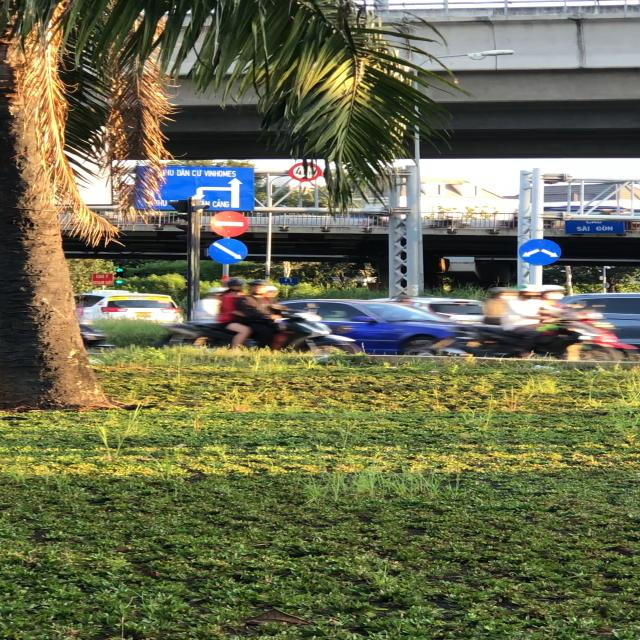Bien bao cam di nguoc chieu: (205, 208, 252, 238)
Bien bao han che chieu cao: (286, 161, 326, 182)
Bien bao huong phai di vong chuong ngai vat: (515, 236, 566, 268), (206, 235, 250, 268)
